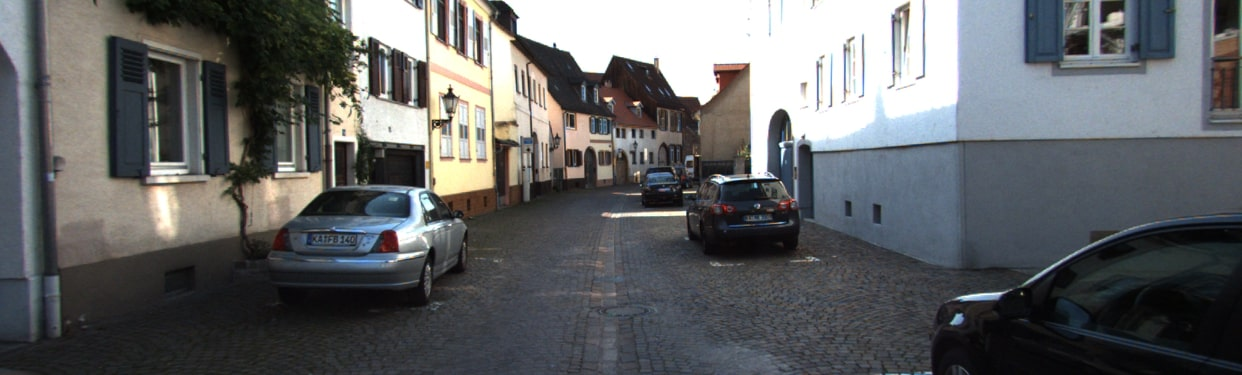car: (931, 218, 1242, 369), (257, 174, 483, 314), (682, 169, 801, 252), (642, 176, 683, 211)
